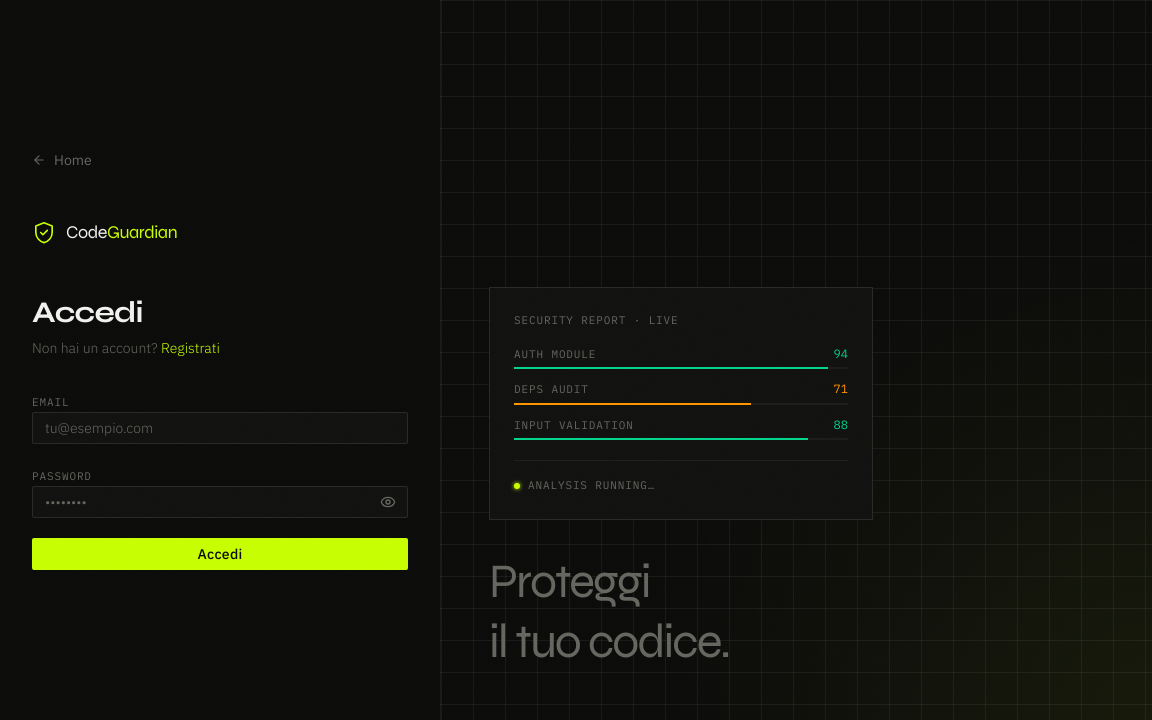
LoginPage › disables the submit button while login is in progress
Type "user@test.com" into the field with placeholder "tu@esempio.com". click: [220, 428]
box: [32,412,408,444]
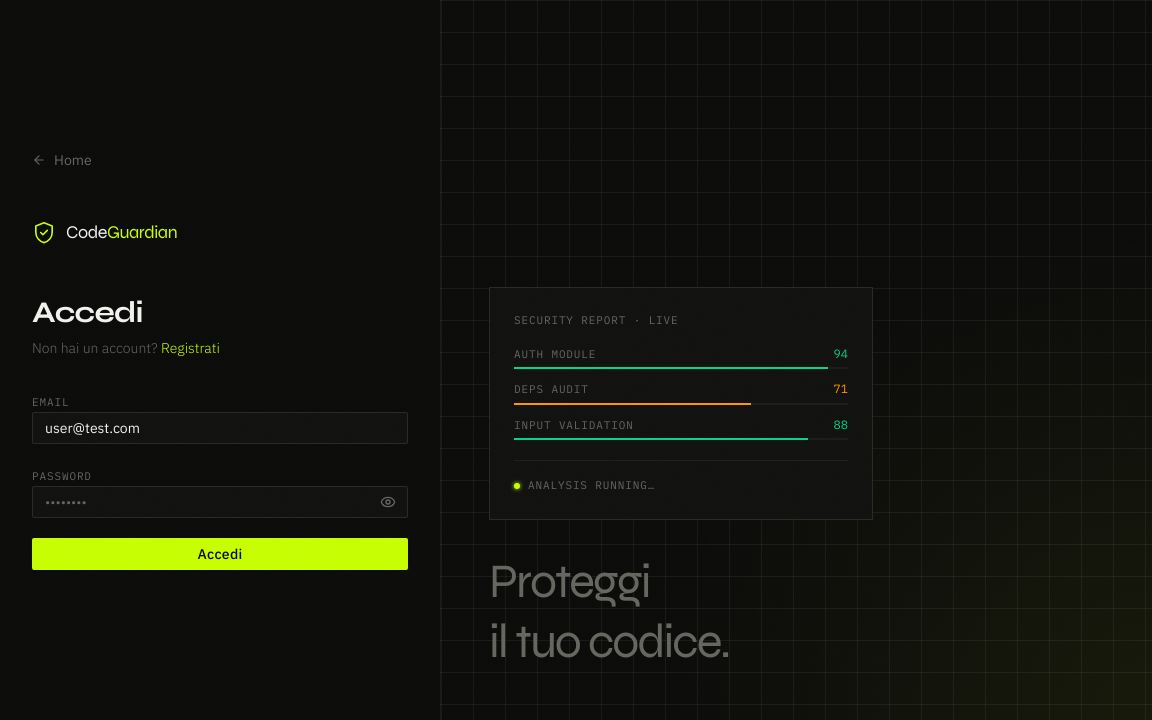
Type "password123" into the password field with placeholder "••••••••". click: [220, 502]
box: [32,486,408,518]
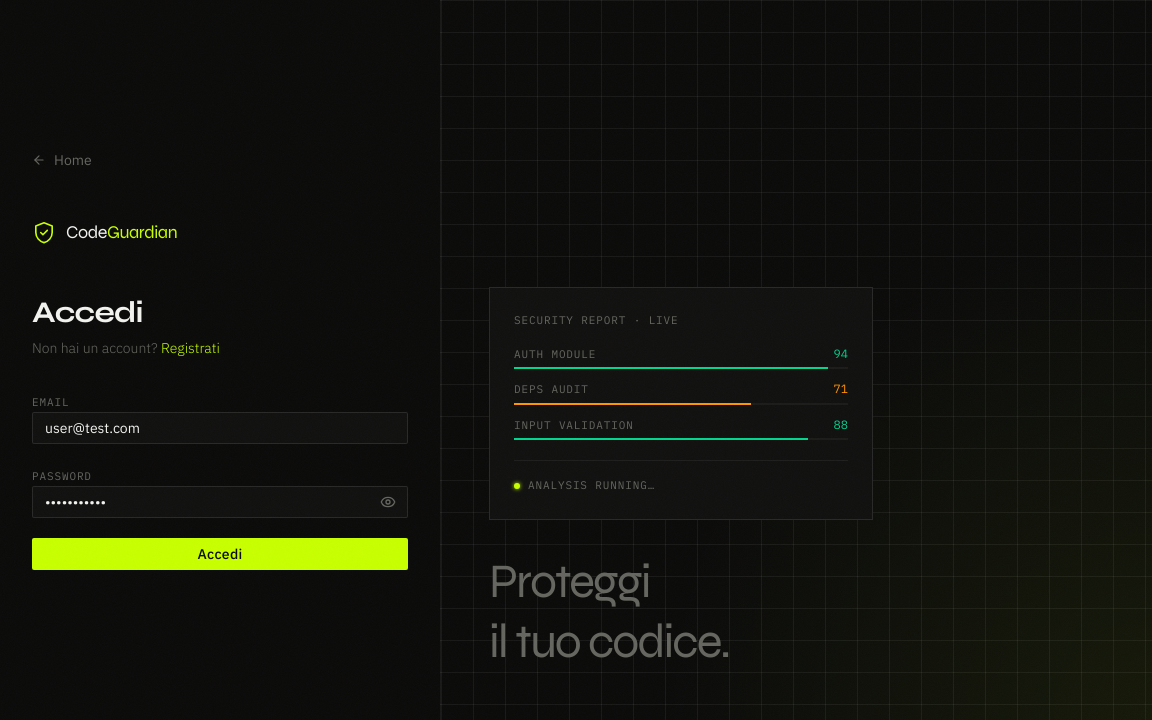
Click the button "Accedi". click: [220, 554]
box: [32,538,408,570]
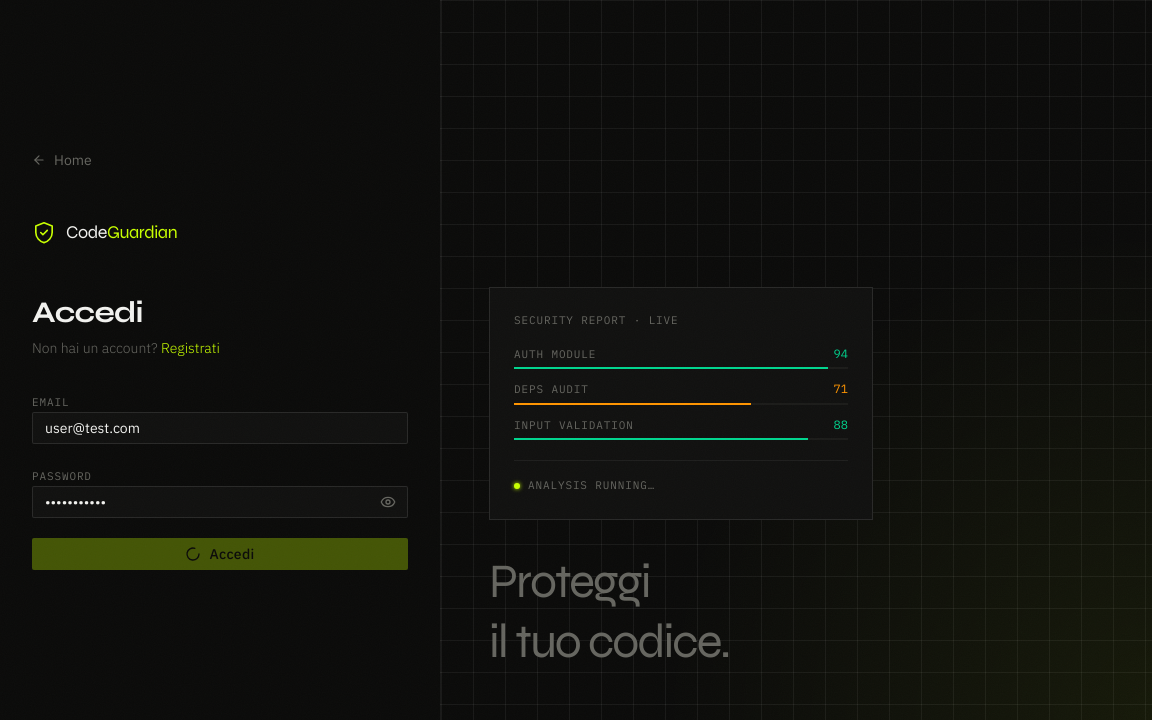
Now the button "Accedi" is disabled, box [32,538,408,570]
